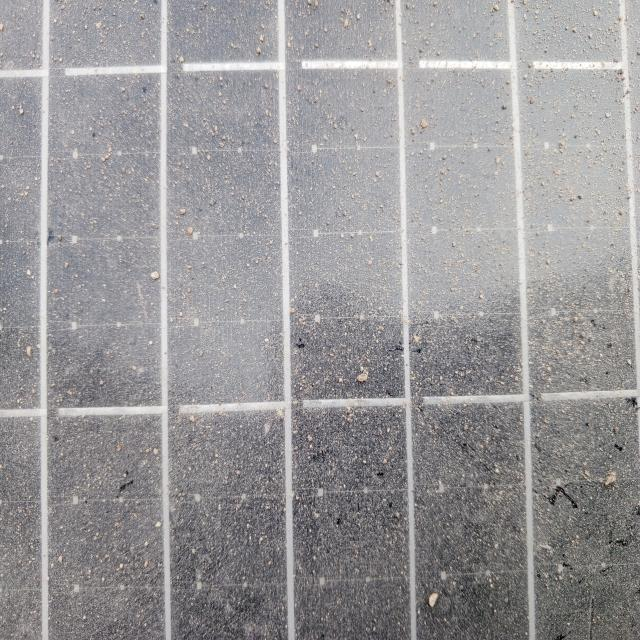Surface Contaminant: (23, 19, 611, 619)
